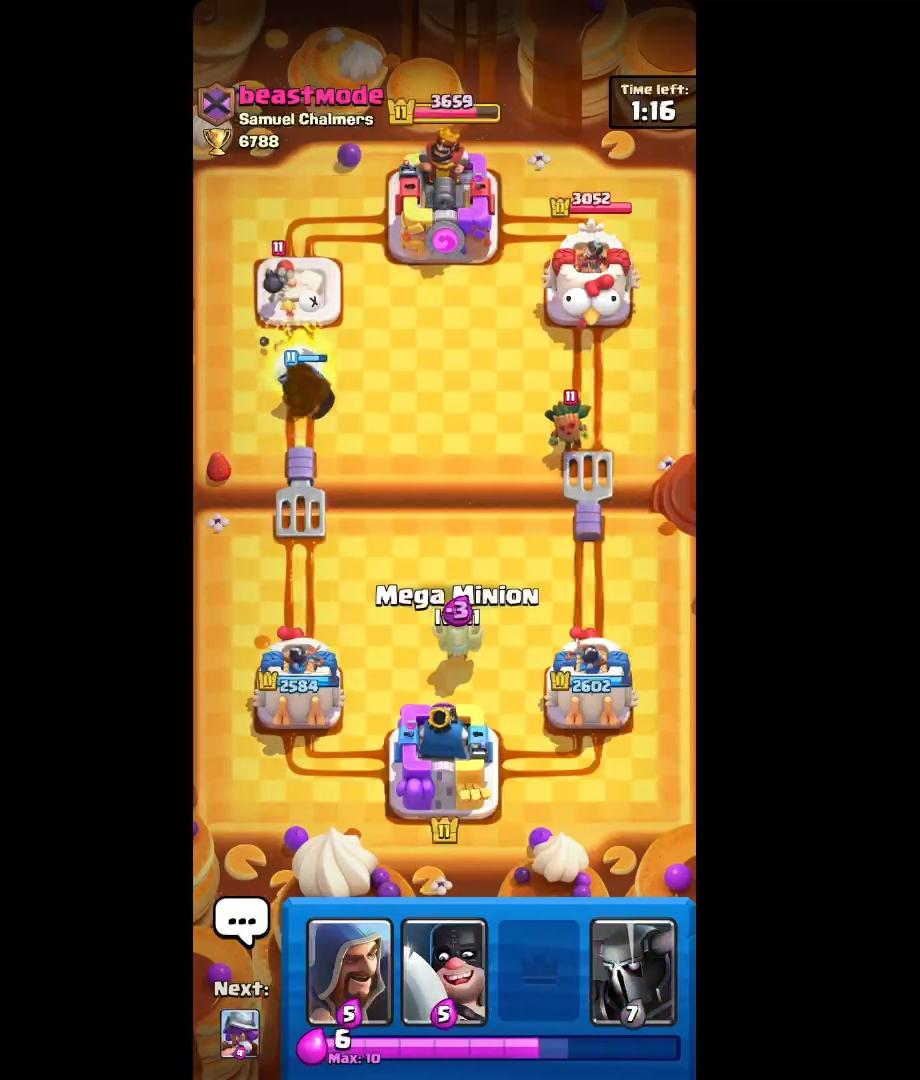Bomber: (259, 233, 299, 300)
Dart Goblin: (542, 388, 594, 453)
